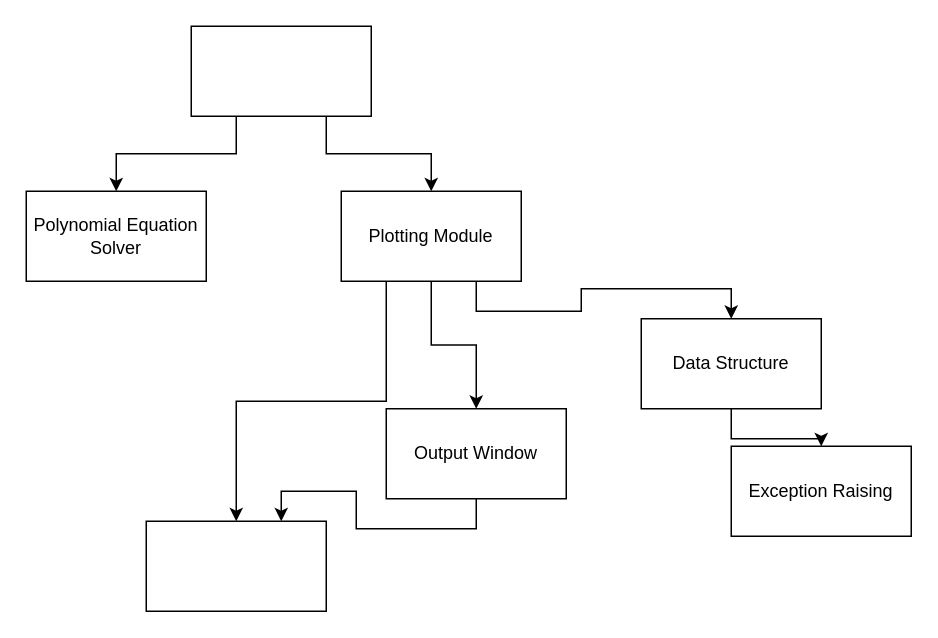
Image size: 938x638. Some labels were removed from this diagram. Here are the shapes that lost their labels. From the top down, the centre of each, then its label:
the point at 280,70: Polynomial Equations Module
the point at 235,565: Output Format
